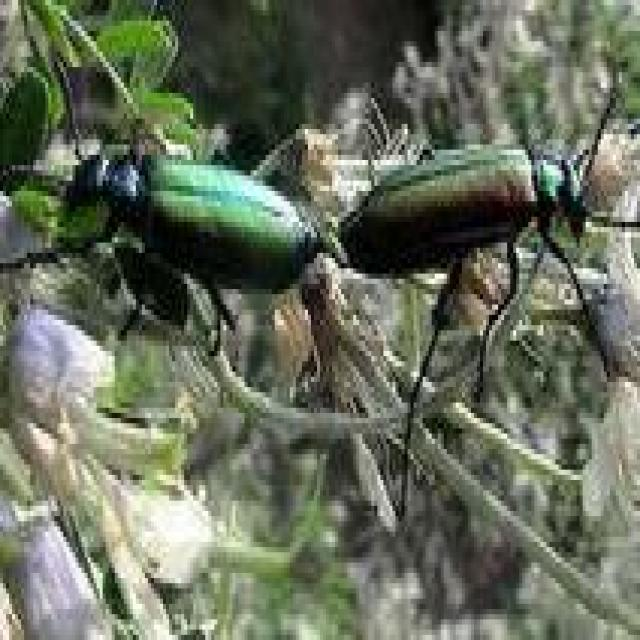BlisterBeetle-Adult-: (12, 56, 339, 353), (336, 56, 629, 366)
